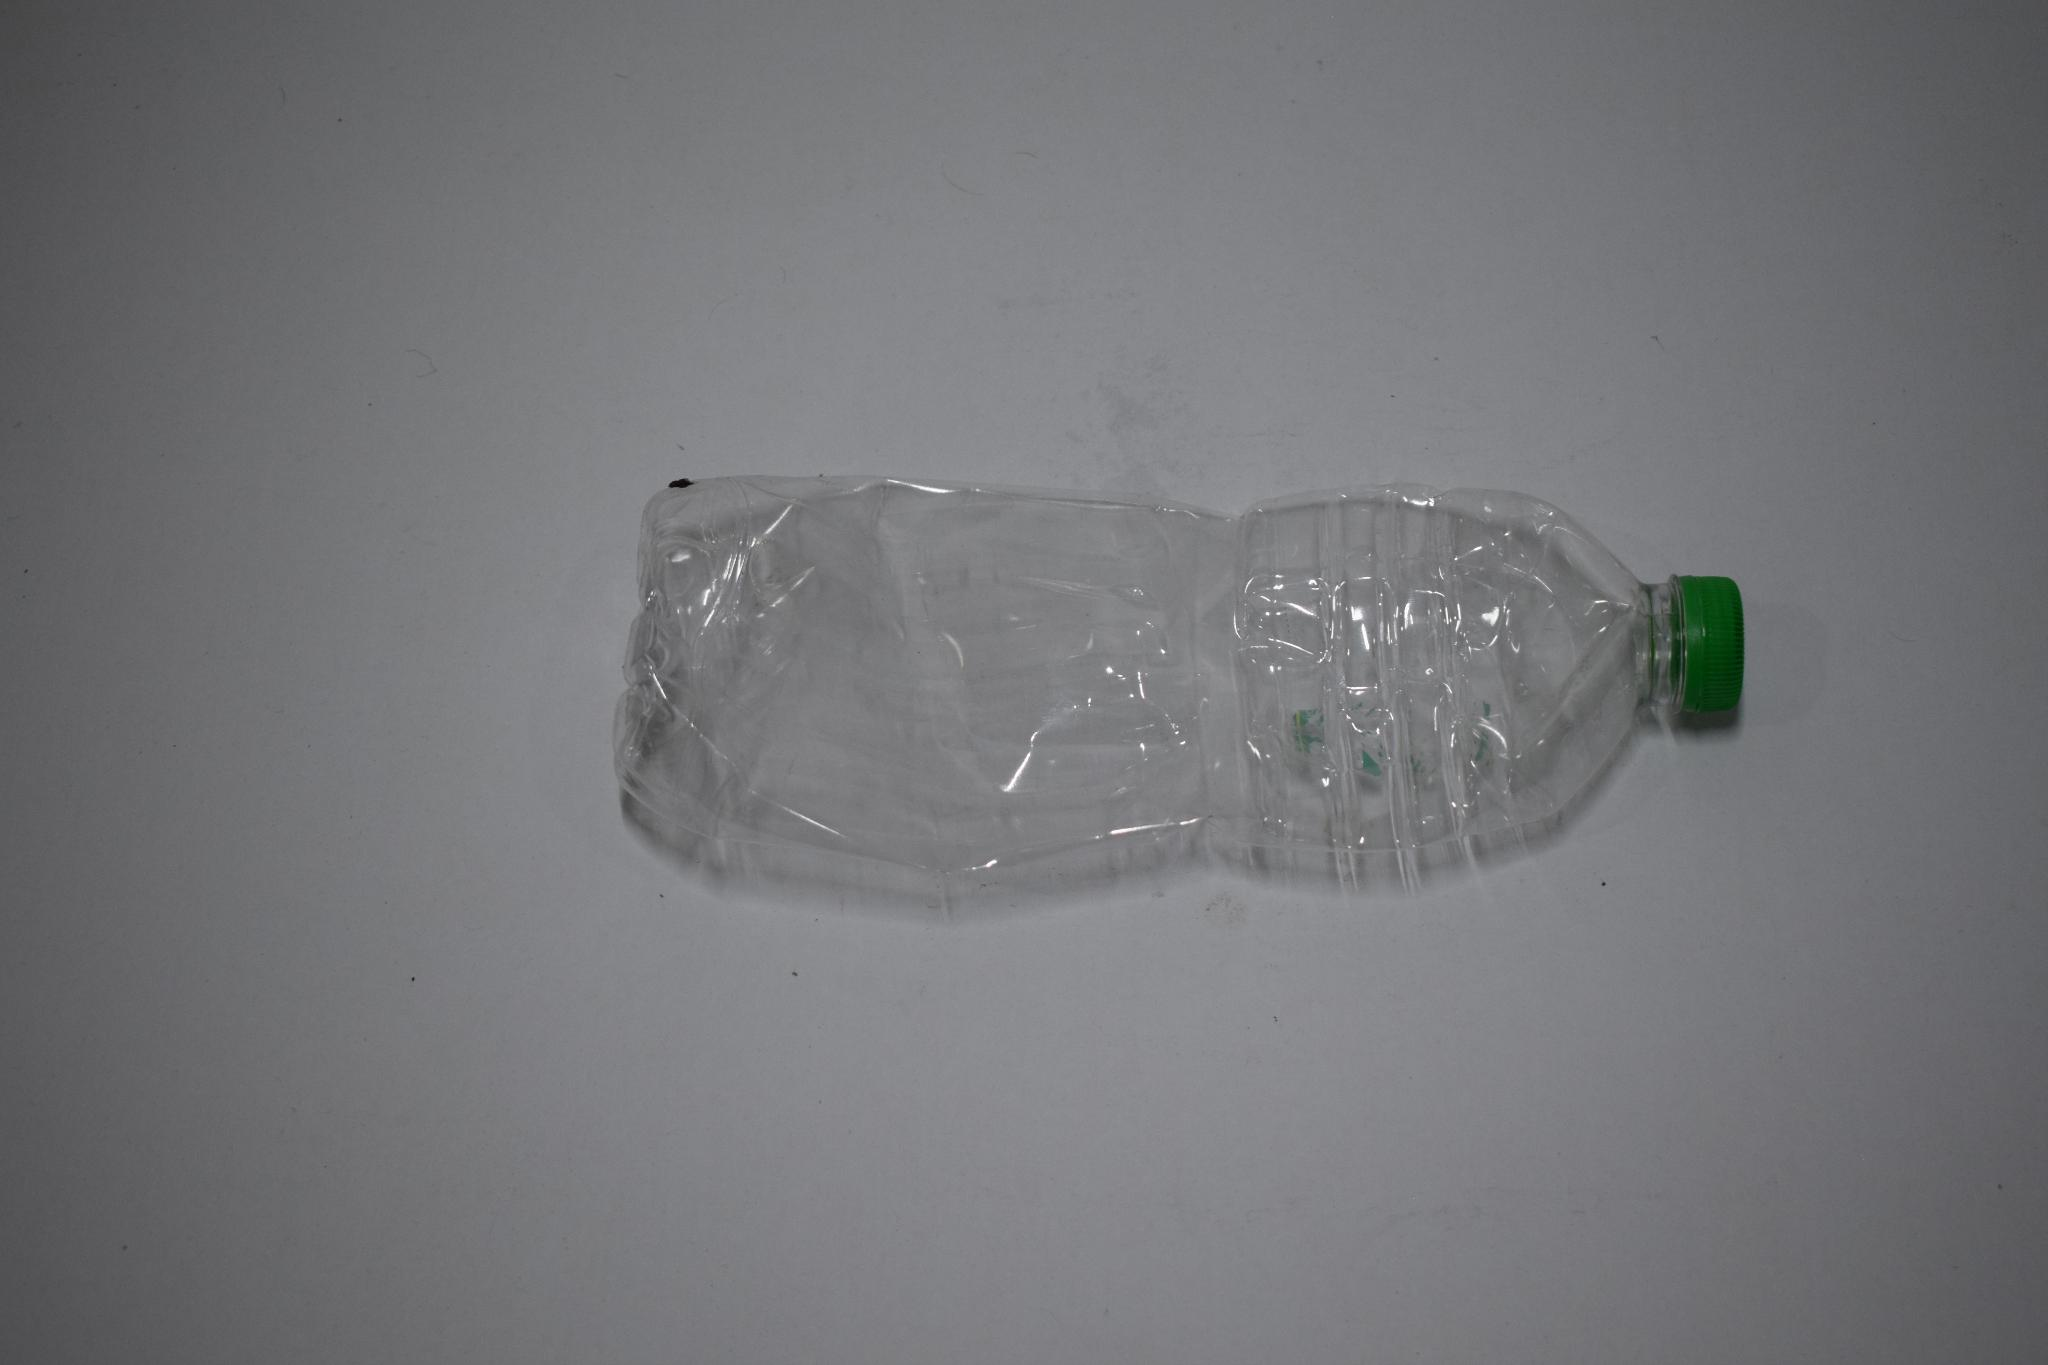bottle: (618, 451, 1789, 929)
